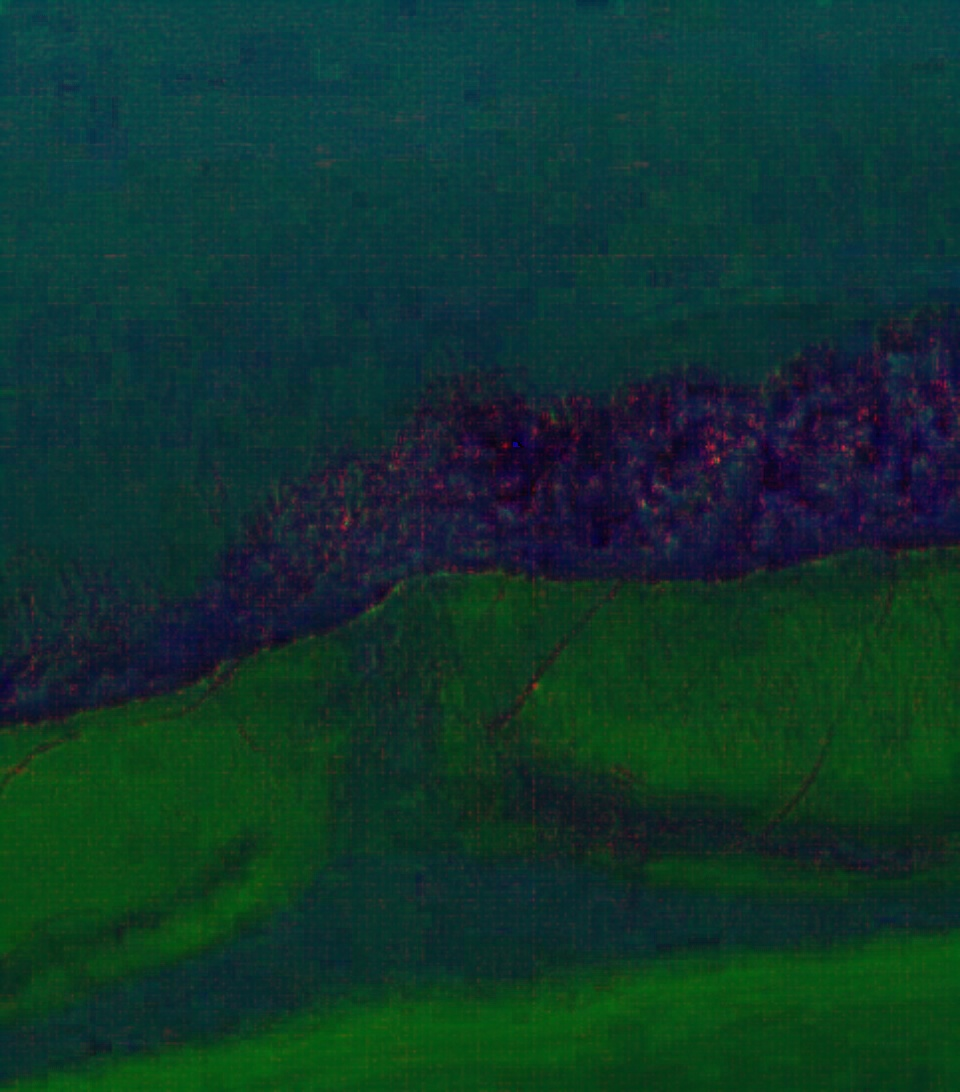rip_current: (240, 340, 543, 891)
